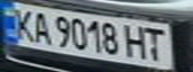0: (66, 16, 87, 51)
1: (84, 17, 103, 53)
8: (100, 19, 124, 56)
9: (48, 12, 72, 48)
A: (27, 9, 54, 45)
H: (121, 22, 151, 60)
K: (6, 6, 39, 43)
T: (142, 26, 172, 62)
